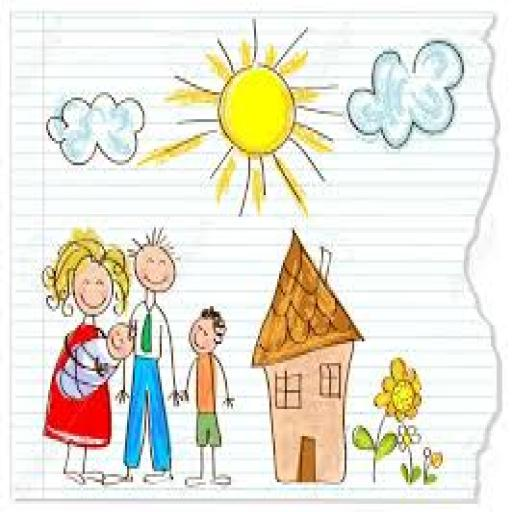person: (33, 228, 133, 498), (93, 223, 179, 485), (175, 299, 239, 491), (49, 312, 137, 404)
